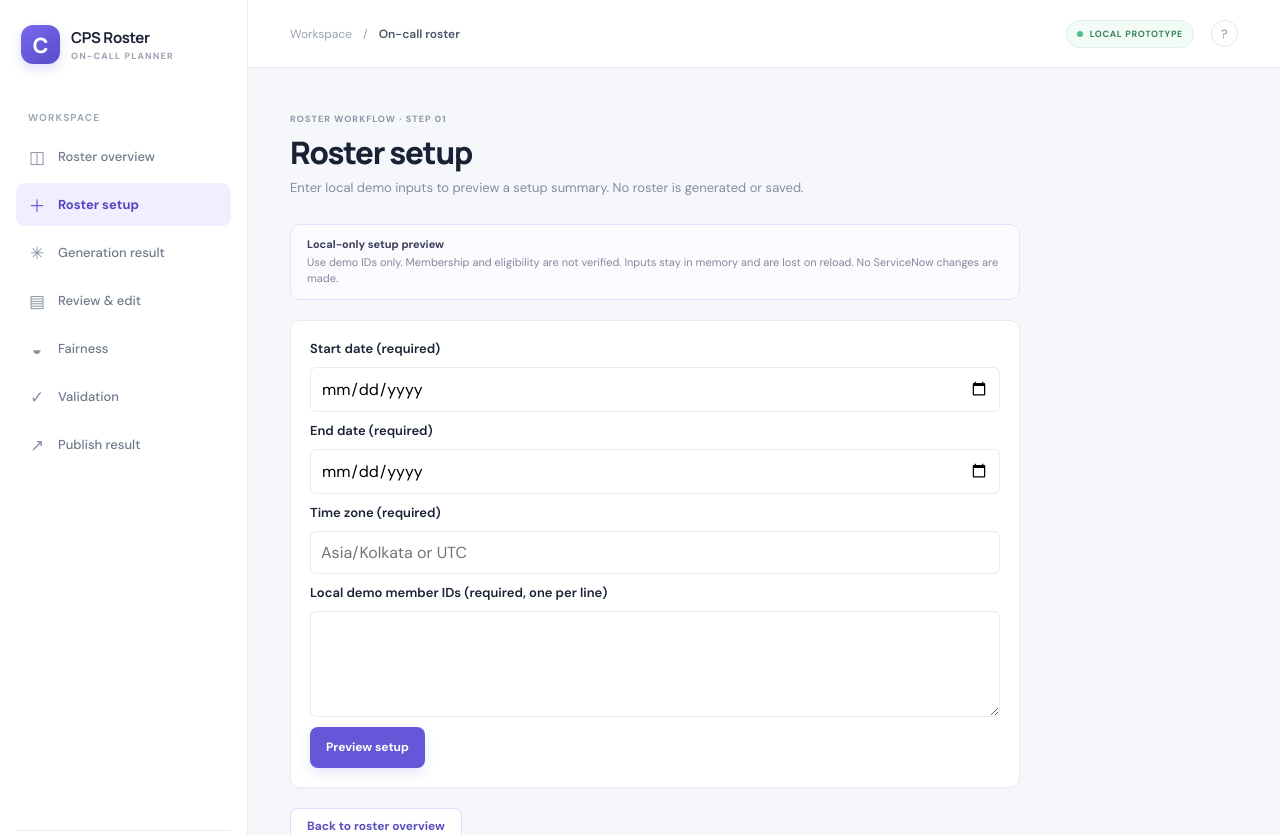
Test: roster application shell › local setup preview flow › reports all missing fields without submitting
The image size is (1280, 835).
Click the button "Preview setup" at (367, 748), box x1=310 y1=727 x2=425 y2=768
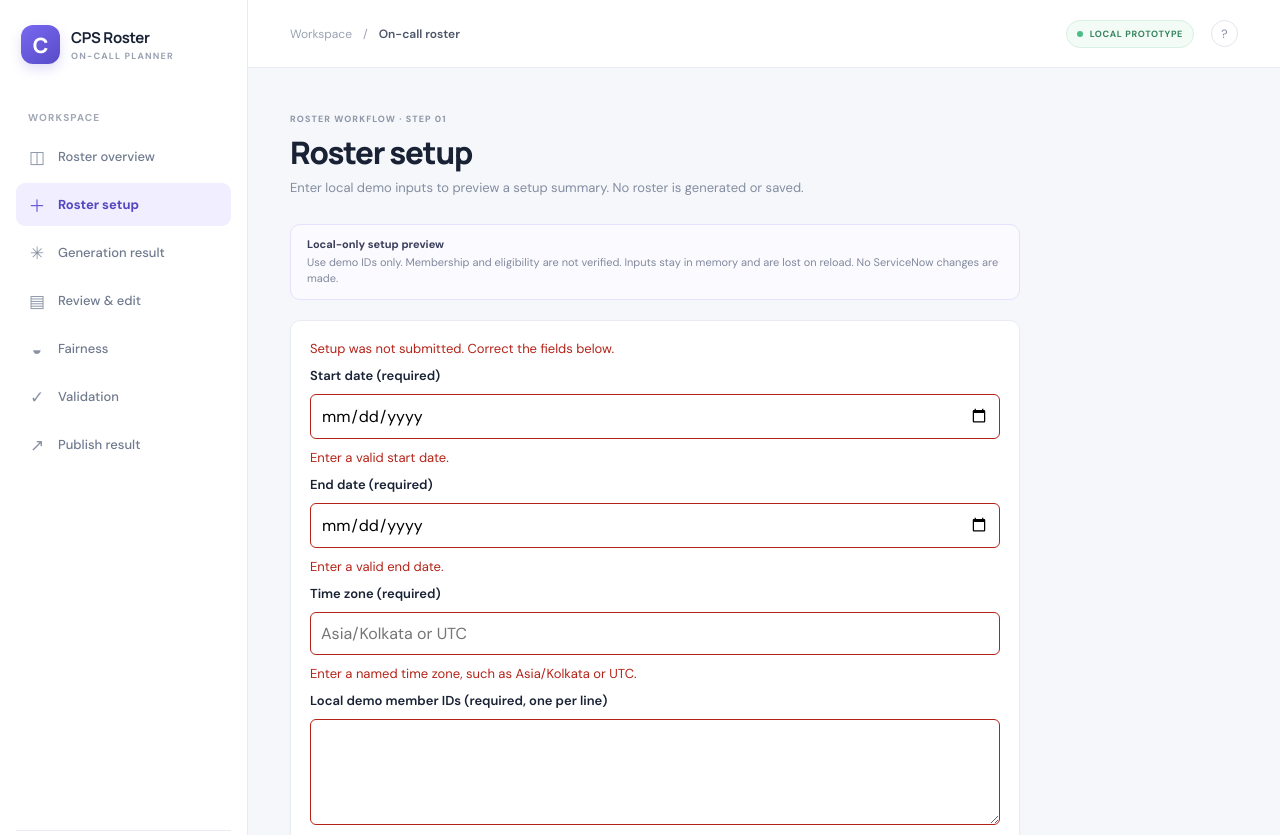
Expected: the message shows "Setup was not submitted", x1=310 y1=340 x2=614 y2=357
